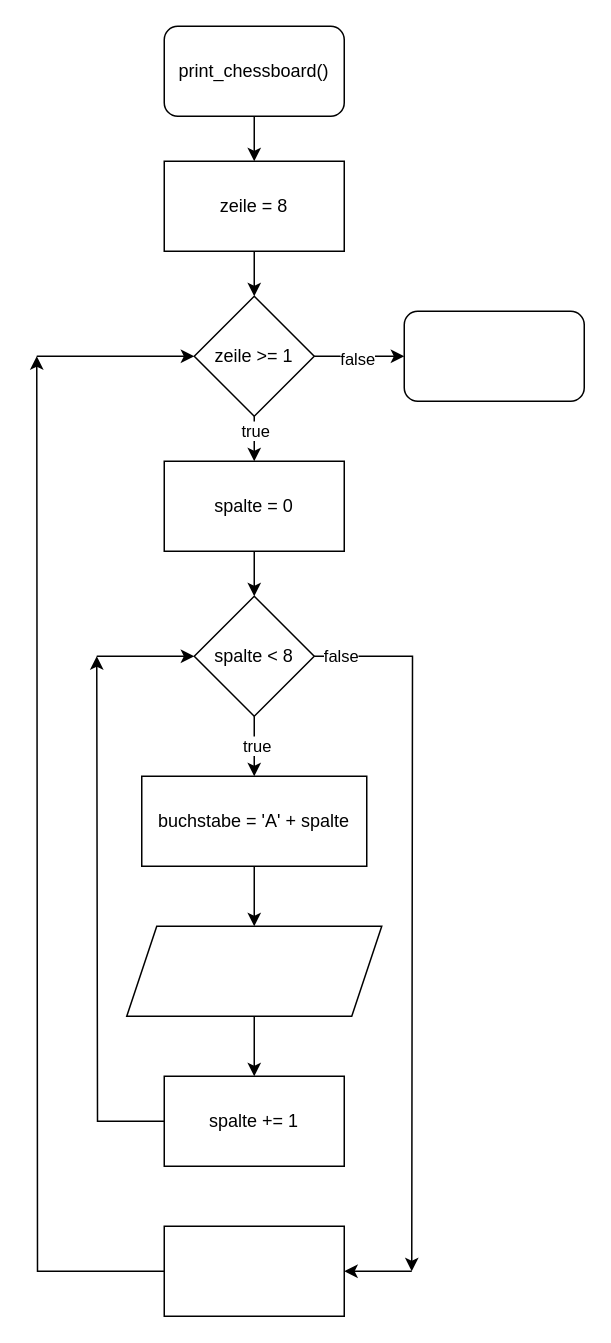
Some shapes in this 611 by 1343 pixel diagram are drawn without their labels. Each missing label, with the box of its shape:
PRINT buchstabe, zeile, " ": (125, 925, 382, 1016)
RETURN: (403, 310, 584, 401)
zeile -= 1: (163, 1225, 344, 1316)
